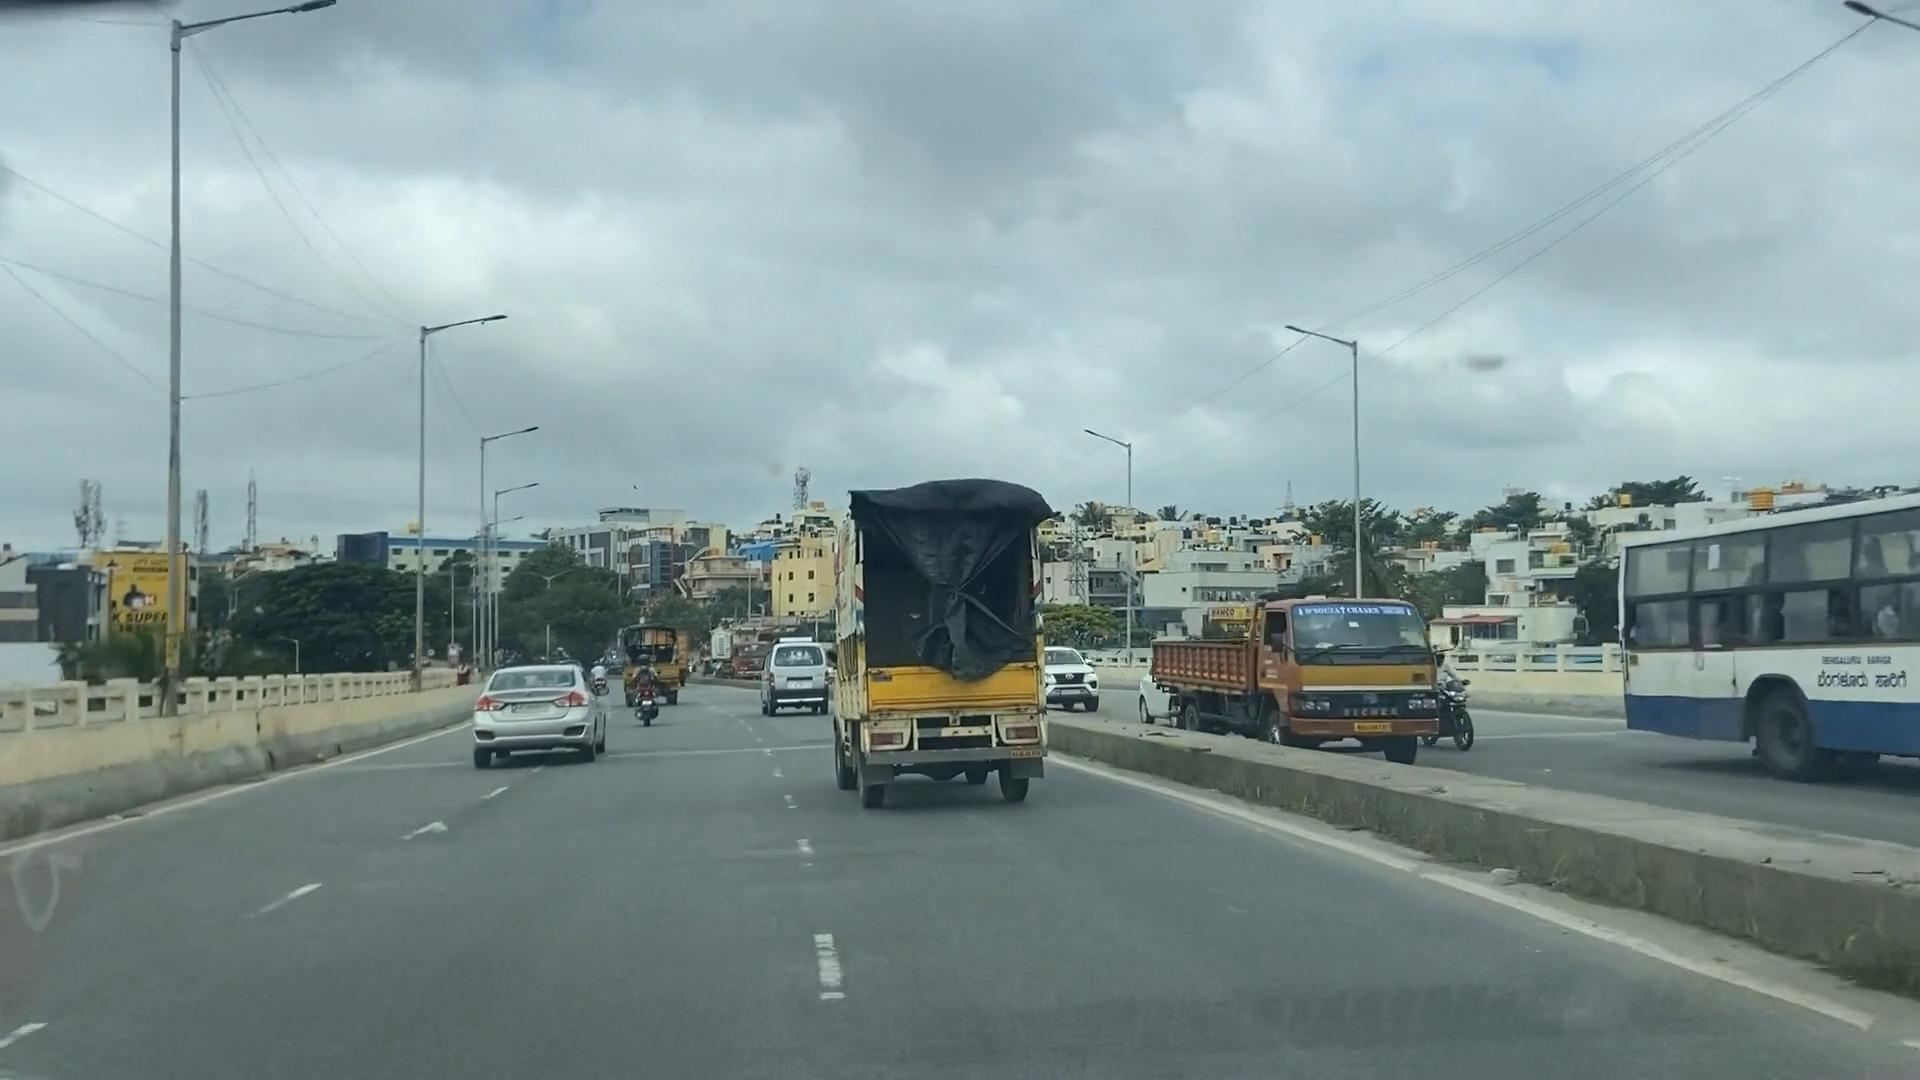HMV: (1592, 498, 1920, 775), (831, 475, 1058, 814), (1142, 575, 1443, 757)
